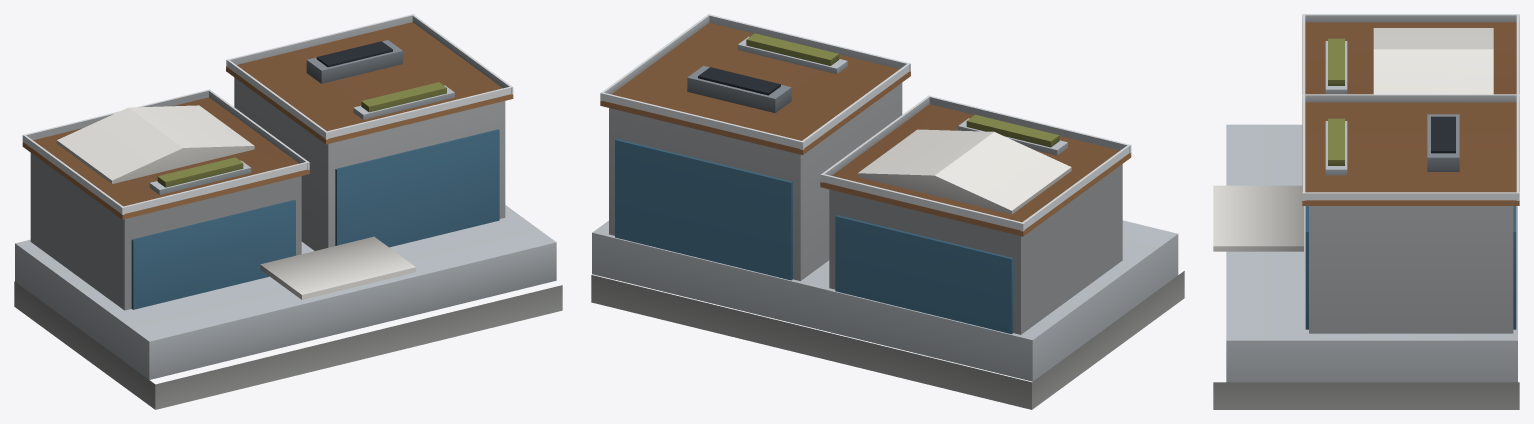
The model's file is research-block-3.glb.
3 views of the same model, side by side, from view 1: azimuth 30°, elevation 25°; view 2: azimuth 150°, elevation 25°; view 3: azimuth 270°, elevation 25° (orthographic). The views are drawn at different scales.
Visible parts, largest first — view 1: research-block-3; view 2: research-block-3; view 3: research-block-3.
Part boxes in pixels (x1,y1,x2,y2): research-block-3: (14,14,562,409); research-block-3: (591,14,1184,409); research-block-3: (1213,14,1519,409).
Bounding box in the file's own units: 50 × 24 × 30.
